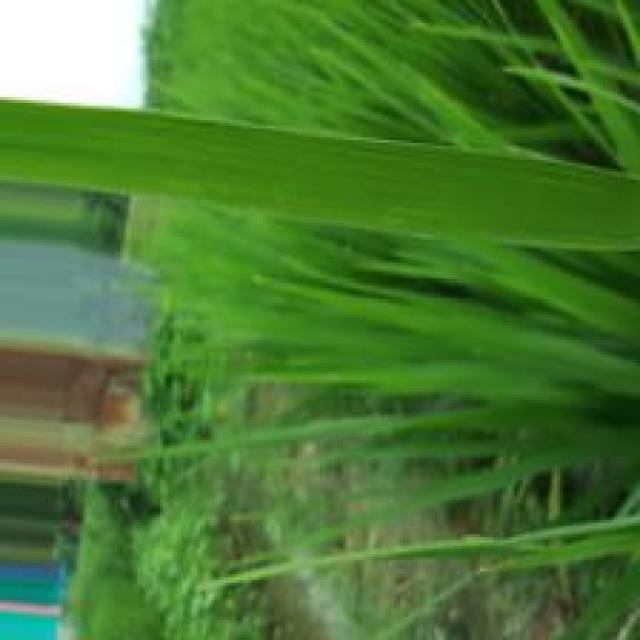HealthyLeaf: (0, 96, 640, 251)
